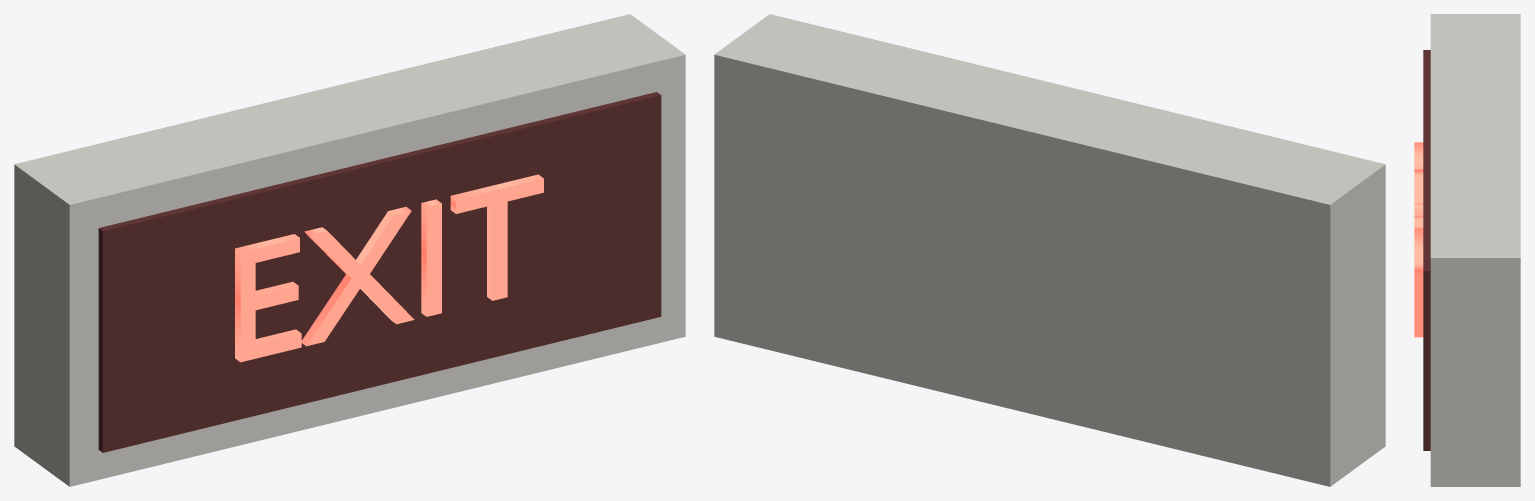
File: exit_sign.glb
The picture shows the model from 3 angles, left to right: view 1: azimuth 30°, elevation 25°; view 2: azimuth 150°, elevation 25°; view 3: azimuth 270°, elevation 25°; orthographic projection. The views are drawn at different scales.
Parts seen in each view (by area): view 1: FaceDark, SignFrame, 文字; view 2: SignFrame; view 3: SignFrame, FaceDark, 文字.
Part boxes in pixels (x1=…): FaceDark: x1=98, y1=92, x2=661, y2=452; SignFrame: x1=14, y1=14, x2=685, y2=486; 文字: x1=235, y1=174, x2=543, y2=362; SignFrame: x1=714, y1=14, x2=1385, y2=486; SignFrame: x1=1430, y1=14, x2=1520, y2=486; FaceDark: x1=1423, y1=50, x2=1430, y2=450; 文字: x1=1414, y1=142, x2=1423, y2=337.
Bounding box in the file's own units: 0.64 × 0.28 × 0.118.
